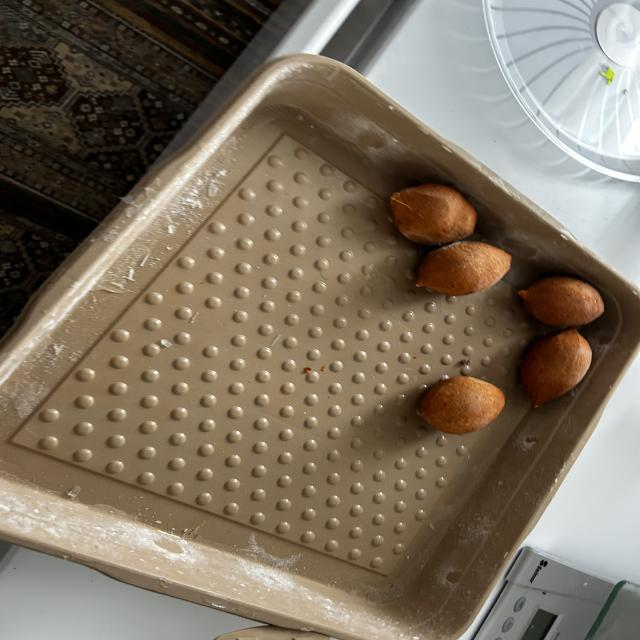kobi: (524, 331, 598, 408), (390, 186, 487, 243), (419, 376, 508, 435), (416, 244, 514, 295), (517, 283, 617, 325)
